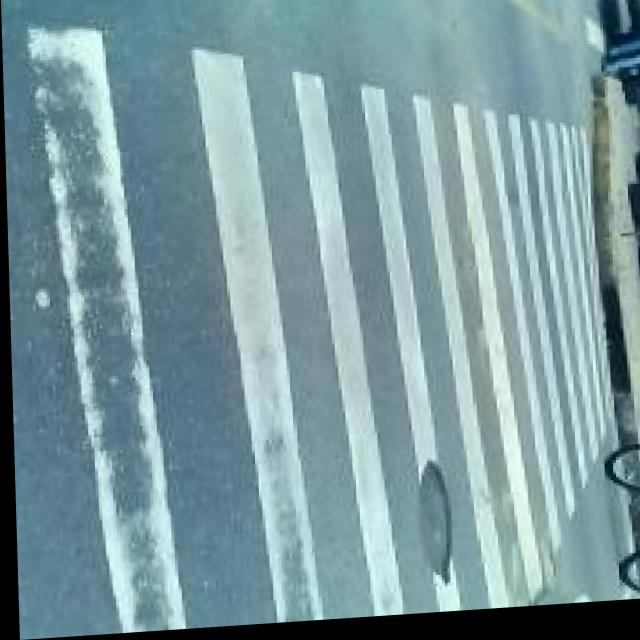zebra: (39, 136, 599, 631)
